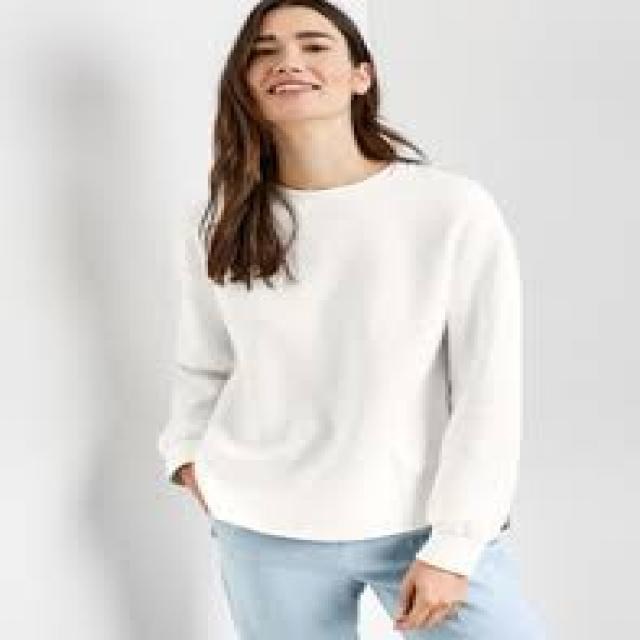plain: (165, 165, 530, 551)
